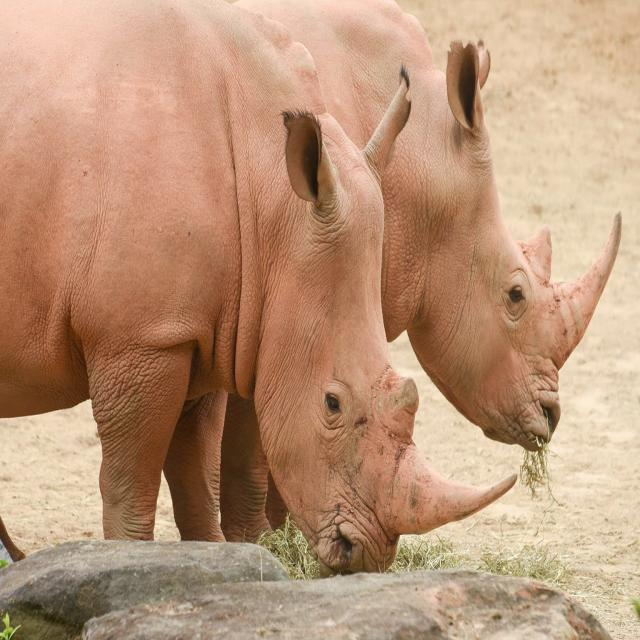rhinoceros: (0, 0, 515, 571), (234, 0, 621, 449)
